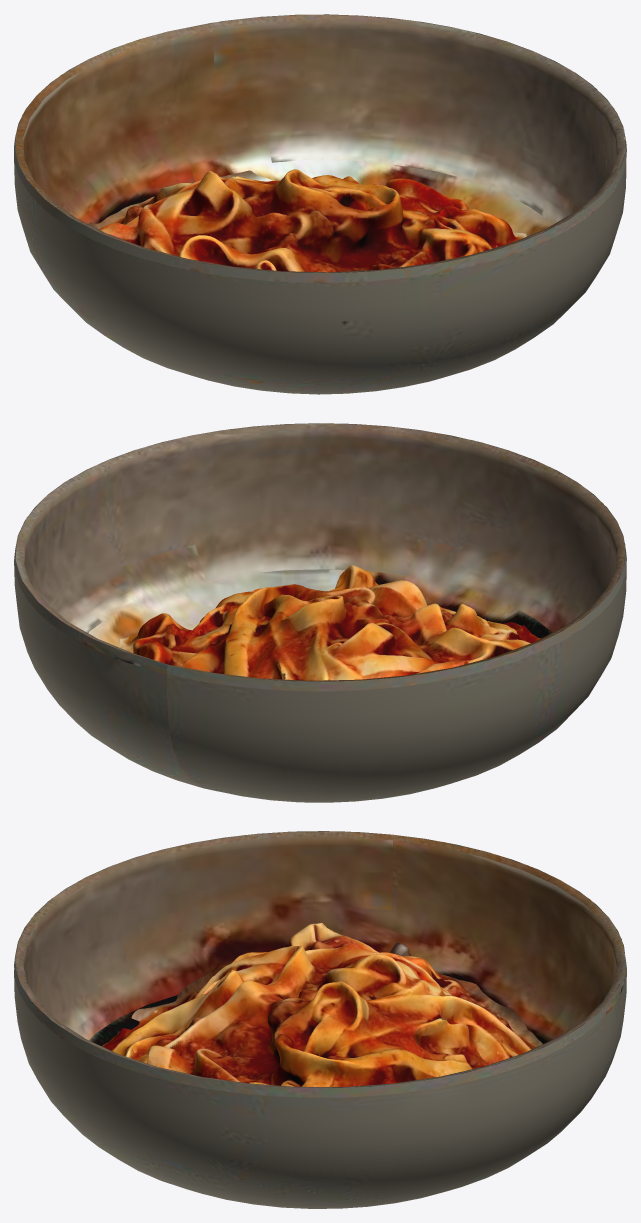
File: Plato_07.glb
3 renders of one model, top to bottom at view 1: azimuth 30°, elevation 25°; view 2: azimuth 150°, elevation 25°; view 3: azimuth 270°, elevation 25°, orthographic.
Visible parts, largest first — view 1: Metal_Bowl.001, Bolognese DecimateHalf; view 2: Metal_Bowl.001, Bolognese DecimateHalf; view 3: Metal_Bowl.001, Bolognese DecimateHalf.
Boxes of the visible parts, x1,y1,x2,y2 form: Metal_Bowl.001: (14, 14, 626, 394); Bolognese DecimateHalf: (88, 169, 526, 386); Metal_Bowl.001: (14, 423, 626, 802); Bolognese DecimateHalf: (120, 565, 540, 680); Metal_Bowl.001: (14, 831, 626, 1208); Bolognese DecimateHalf: (102, 923, 542, 1086).
Bounding box in the file's own units: 0.2406 × 0.0804 × 0.2416.
2 materials, 2 textured.
